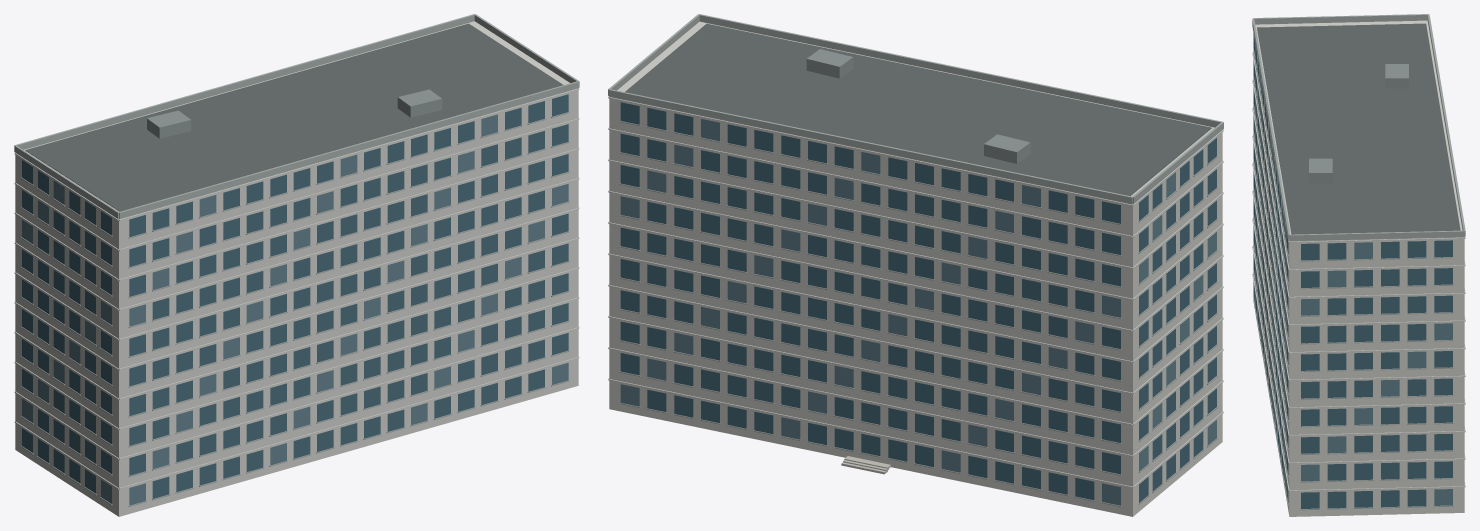
The model's file is 软件园与科创楼-005.glb.
3 renders of one model, left to right at view 1: azimuth 30°, elevation 25°; view 2: azimuth 150°, elevation 25°; view 3: azimuth 270°, elevation 25°, orthographic. The views are drawn at different scales.
Visible parts, largest first — view 1: 软件园与科创楼-005; view 2: 软件园与科创楼-005; view 3: 软件园与科创楼-005.
Boxes of the visible parts, x1,y1,x2,y2 form: 软件园与科创楼-005: [14, 14, 579, 516]; 软件园与科创楼-005: [608, 14, 1223, 516]; 软件园与科创楼-005: [1252, 14, 1465, 516].
Size of the model in its own units: 61.9 by 37.42 by 25.21.
